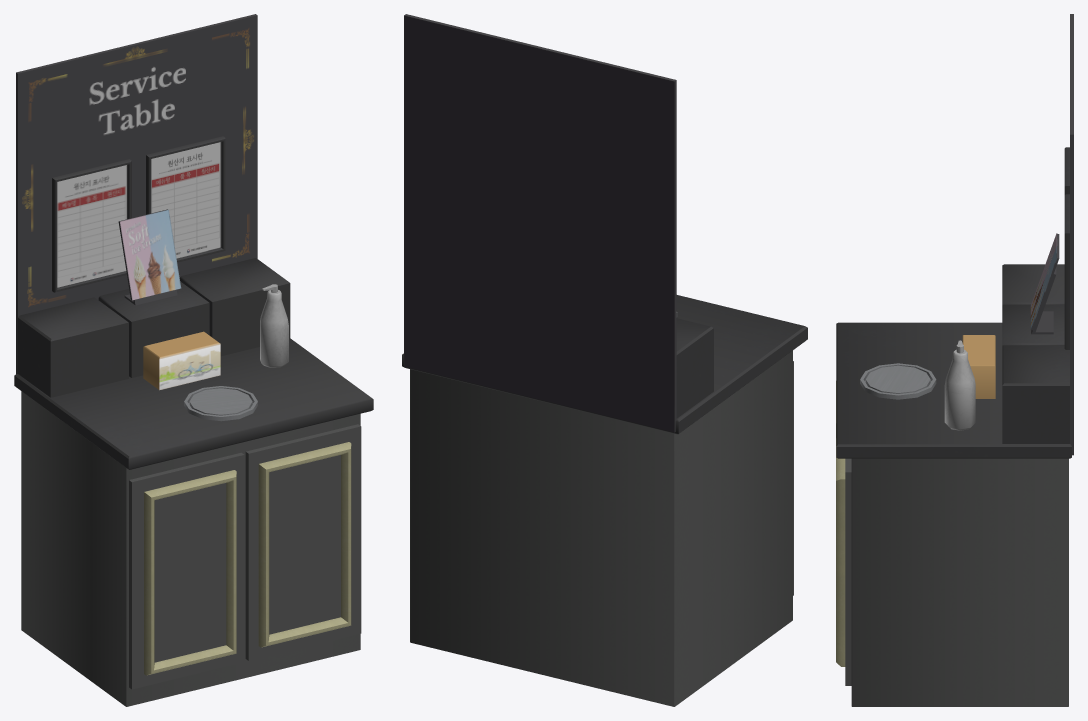
Rendered from LC_3060_Service_table_LOD3.FBX.
3 renders of one model, left to right at view 1: azimuth 30°, elevation 25°; view 2: azimuth 150°, elevation 25°; view 3: azimuth 270°, elevation 25°, orthographic. The views are drawn at different scales.
Visible parts, largest first — view 1: LC_3060_Service_table_LOD3; view 2: LC_3060_Service_table_LOD3; view 3: LC_3060_Service_table_LOD3.
Boxes of the visible parts, bbox=[...] form: LC_3060_Service_table_LOD3: bbox=[14, 14, 373, 706]; LC_3060_Service_table_LOD3: bbox=[402, 14, 807, 706]; LC_3060_Service_table_LOD3: bbox=[836, 14, 1073, 706].
Bounding box in the file's own units: 94 × 204 × 76.61.
Materials: 1 (1 with a texture image).
